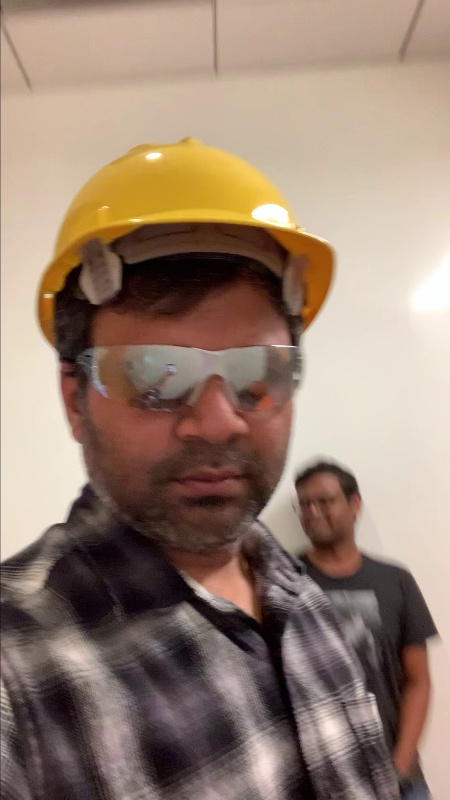glasses: (82, 338, 315, 425)
helmet: (20, 129, 340, 320)
